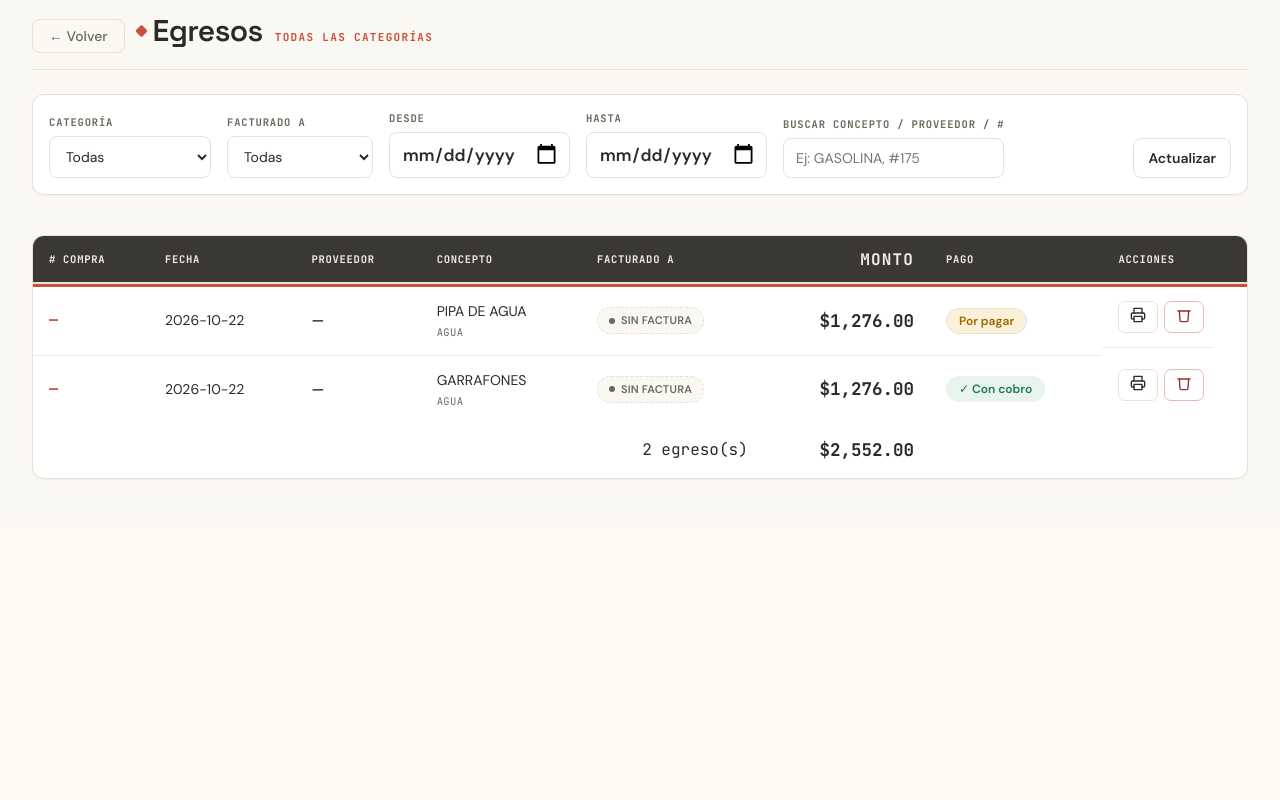
Test: Egresos: ¿con qué se pagó? › 🔴 con cobro: manda ESE cobro; el que no alcanza no se deja elegir
This screenshot has width=1280, height=800.
Click the button "Por pagar": click(987, 321) [946,308,1027,334]
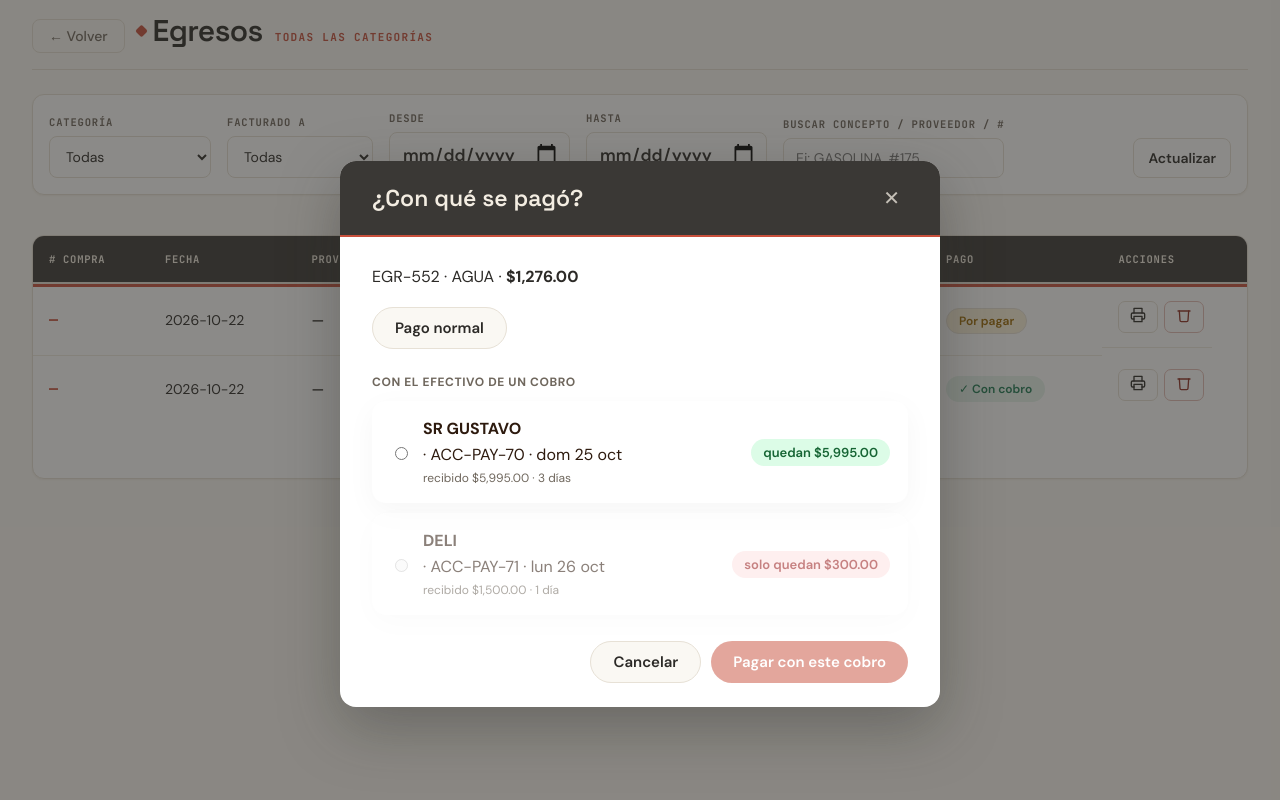
Expected: the radio button labelled "ACC-PAY-71" is disabled, [395,559,408,572]
Expected: the text "solo quedan $300.00" is shown, [732,550,890,578]
Expected: the button "Pagar con este cobro" is disabled, [711,641,908,683]
Click the radio button labelled "ACC-PAY-70": click(402, 454) [395,447,408,460]
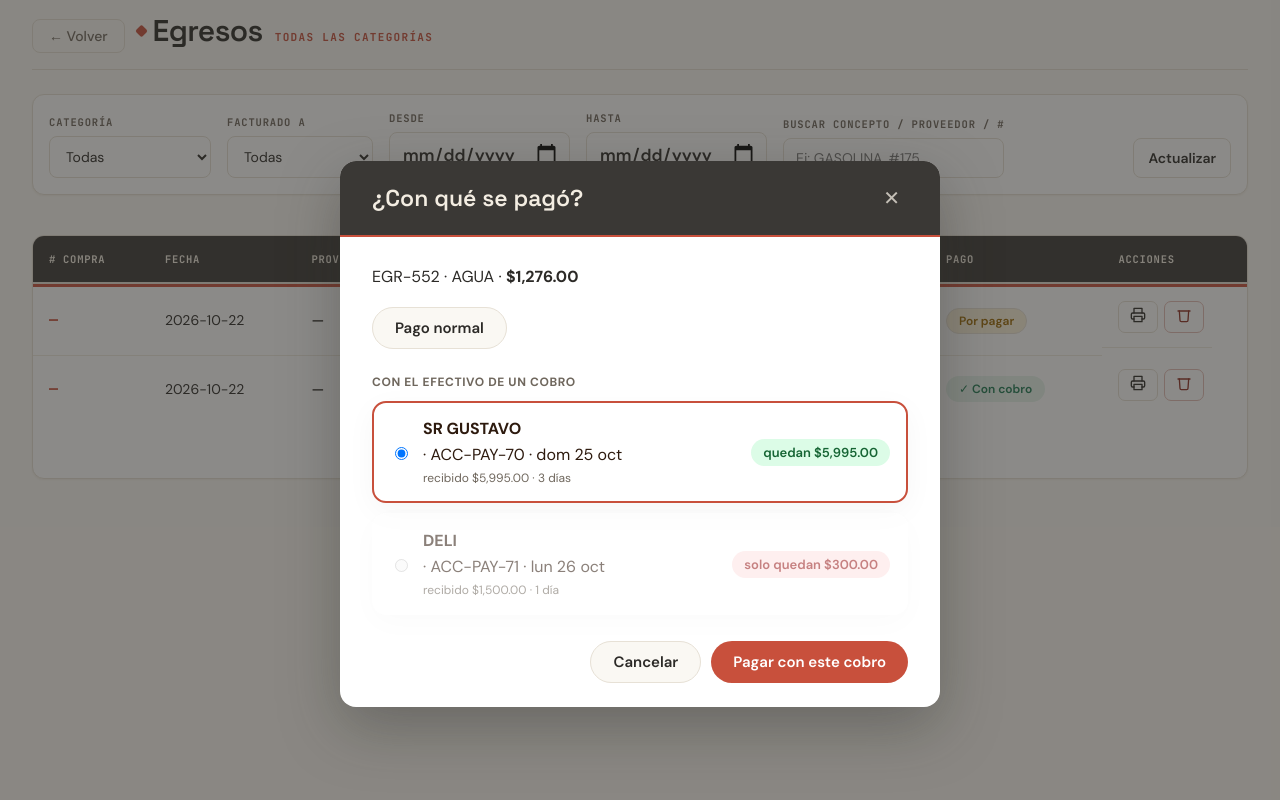
Click the button "Pagar con este cobro": click(810, 662) [711,641,908,683]
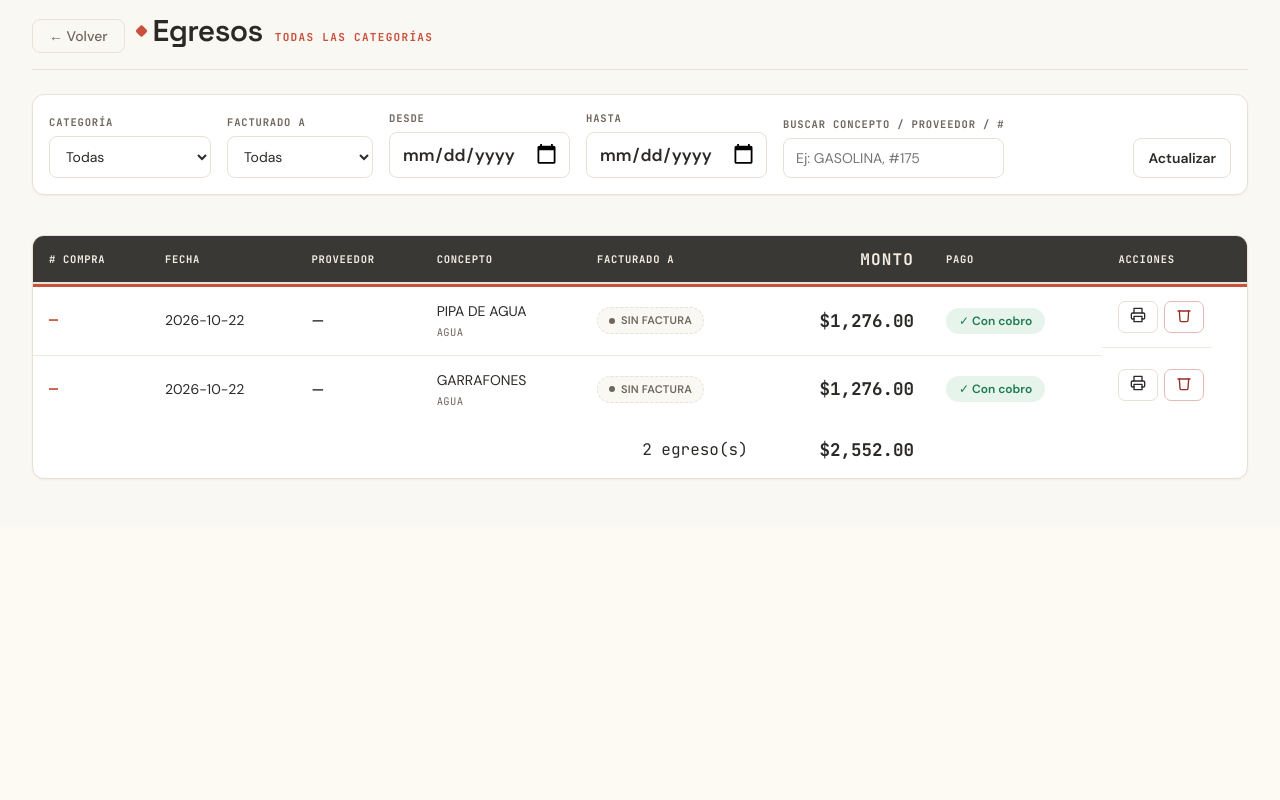
Expected: the button "✓ Con cobro" in the row of "PIPA DE AGUA" is shown, [946,308,1045,334]
